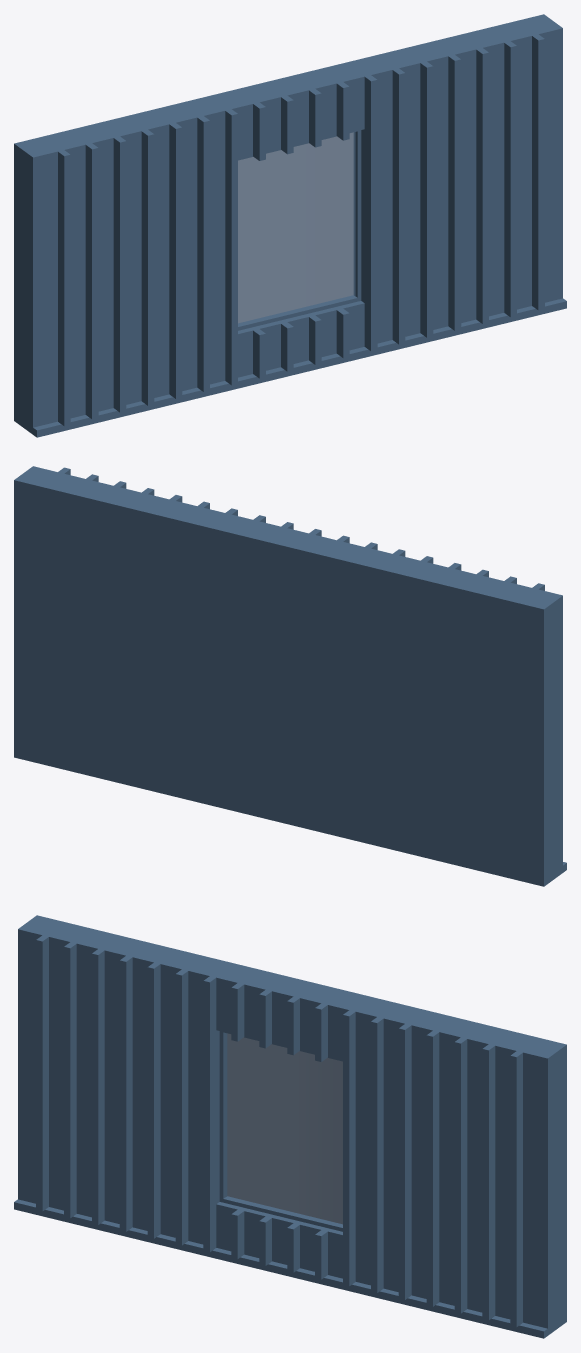
The model's file is SM_Muro_metallico_una_finestra.fbx.
3 views of the same model, one above another, from view 1: azimuth 30°, elevation 25°; view 2: azimuth 150°, elevation 25°; view 3: azimuth 330°, elevation 25° (orthographic).
Parts seen in each view (by area): view 1: SM_Muro_metallico1_finestra2_uv_ok; view 2: SM_Muro_metallico1_finestra2_uv_ok; view 3: SM_Muro_metallico1_finestra2_uv_ok.
Part boxes in pixels (x1,y1,x2,y2): SM_Muro_metallico1_finestra2_uv_ok: (14, 14, 566, 437); SM_Muro_metallico1_finestra2_uv_ok: (14, 466, 566, 886); SM_Muro_metallico1_finestra2_uv_ok: (14, 915, 566, 1338).
Size of the model in its own units: 0.04 by 0.02 by 0.00334.
